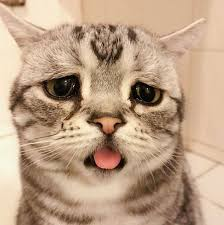cat: (1, 1, 214, 196)
